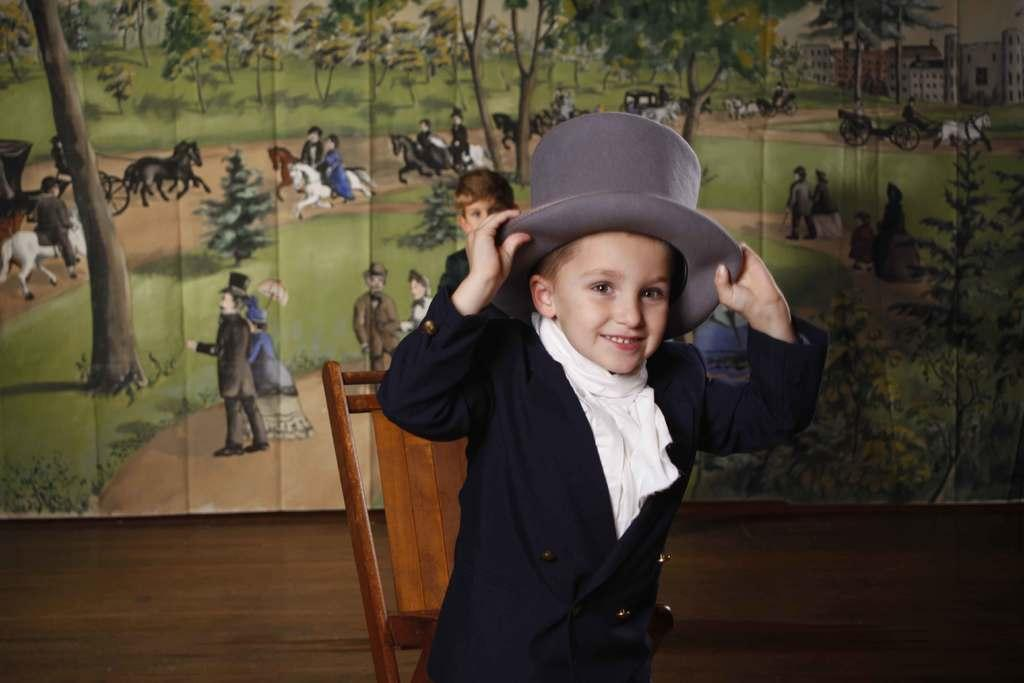Hat: (490, 109, 744, 340), (214, 270, 252, 299), (362, 261, 382, 274), (792, 168, 806, 178)
